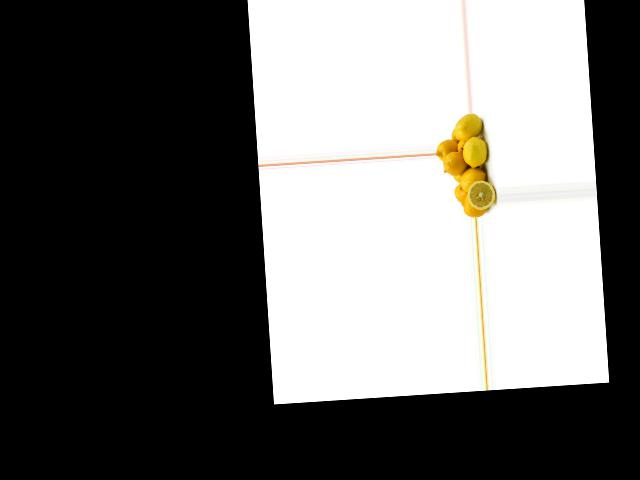lemon: (462, 193, 486, 216)
